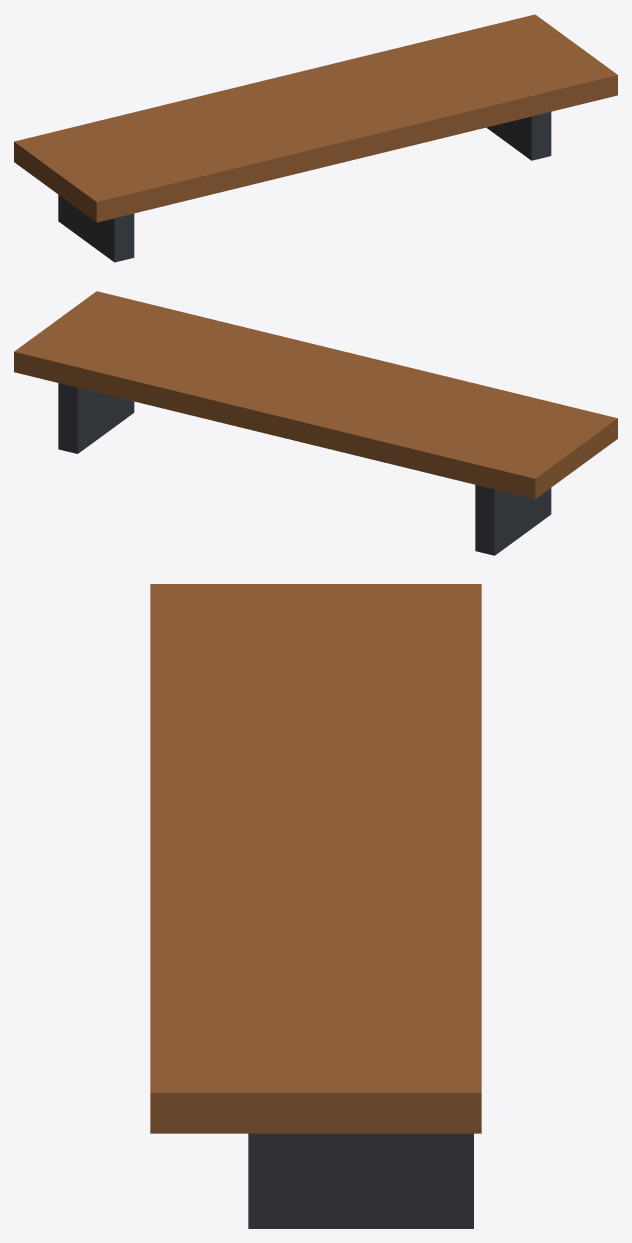
File: wallShelf.fbx
The picture shows the model from 3 angles, top to bottom: view 1: azimuth 30°, elevation 25°; view 2: azimuth 150°, elevation 25°; view 3: azimuth 270°, elevation 25°; orthographic projection. The views are drawn at different scales.
Visible parts, largest first — view 1: wallShelf; view 2: wallShelf; view 3: wallShelf.
Part boxes in pixels (x1,y1,x2,y2): wallShelf: (14,14,617,262); wallShelf: (14,291,617,555); wallShelf: (150,584,481,1228).
Bounding box in the file's own units: 3.2 × 0.52 × 0.88.
